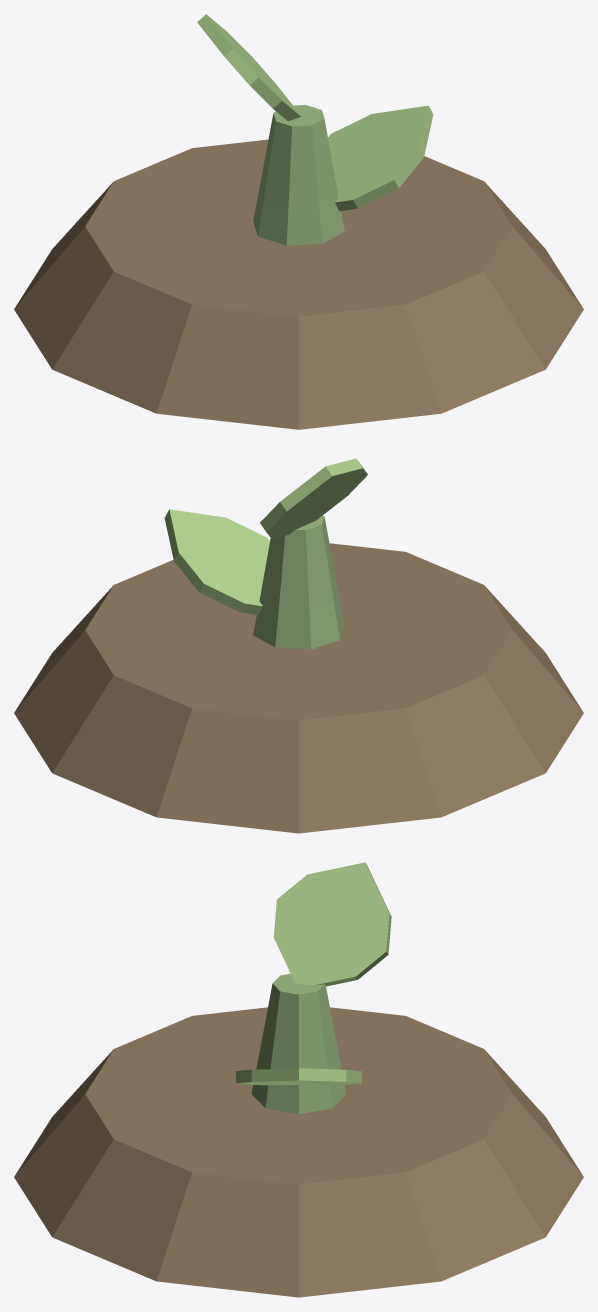
Rendered from 33-Agricultura_cultivo_brote.glb.
The picture shows the model from 3 angles, top to bottom: view 1: azimuth 30°, elevation 25°; view 2: azimuth 150°, elevation 25°; view 3: azimuth 270°, elevation 25°; orthographic projection.
Parts seen in each view (by area): view 1: SM_Cultivo_M_Cultivo_Tierra, SM_Cultivo_M_Cultivo_Hoja, SM_Cultivo_M_Cultivo_Tallo; view 2: SM_Cultivo_M_Cultivo_Tierra, SM_Cultivo_M_Cultivo_Hoja, SM_Cultivo_M_Cultivo_Tallo; view 3: SM_Cultivo_M_Cultivo_Tierra, SM_Cultivo_M_Cultivo_Hoja, SM_Cultivo_M_Cultivo_Tallo.
Part boxes in pixels (<box>): SM_Cultivo_M_Cultivo_Tierra: <box>14,139,583,429</box>; SM_Cultivo_M_Cultivo_Hoja: <box>197,14,433,211</box>; SM_Cultivo_M_Cultivo_Tallo: <box>253,105,344,245</box>; SM_Cultivo_M_Cultivo_Tierra: <box>14,543,583,833</box>; SM_Cultivo_M_Cultivo_Hoja: <box>164,458,367,614</box>; SM_Cultivo_M_Cultivo_Tallo: <box>253,515,344,649</box>; SM_Cultivo_M_Cultivo_Tierra: <box>14,1007,583,1297</box>; SM_Cultivo_M_Cultivo_Hoja: <box>236,862,391,1085</box>; SM_Cultivo_M_Cultivo_Tallo: <box>251,973,346,1113</box>.
Size of the model in its own units: 0.28 by 0.1548 by 0.28.
